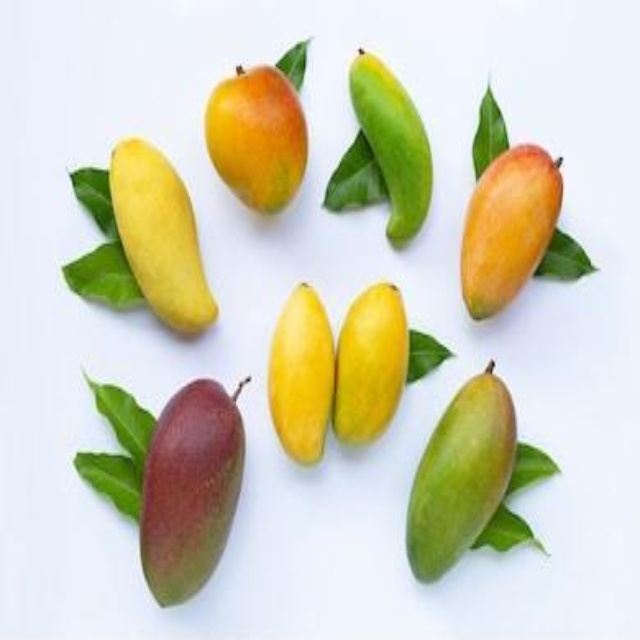mango: (410, 362, 515, 586), (141, 376, 243, 605), (108, 141, 219, 336), (457, 141, 564, 324), (339, 44, 433, 243), (197, 65, 312, 218), (264, 285, 339, 469), (335, 274, 405, 452)
